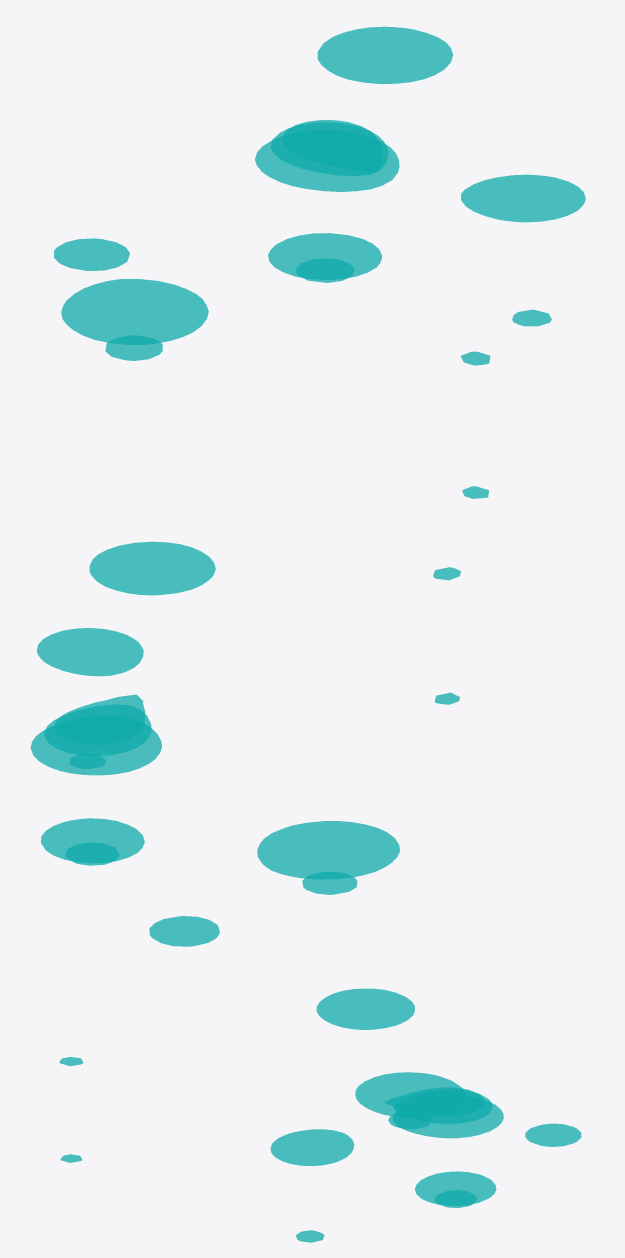
File: WaterDrops.glb
The picture shows the model from 3 angles, top to bottom: view 1: azimuth 30°, elevation 25°; view 2: azimuth 150°, elevation 25°; view 3: azimuth 270°, elevation 25°; orthographic projection. The views are drawn at different scales.
Parts seen in each view (by area): view 1: mesh_mm36, mesh_mm144, mesh_mm113, mesh_mm107, mesh_mm15, mesh_mm100, mesh_mm120, mesh_mm7, mesh_mm4, mesh_mm2; view 2: mesh_mm36, mesh_mm144, mesh_mm113, mesh_mm100, mesh_mm107, mesh_mm15, mesh_mm120, mesh_mm7, mesh_mm4, mesh_mm2; view 3: mesh_mm144, mesh_mm113, mesh_mm36, mesh_mm100, mesh_mm107, mesh_mm15, mesh_mm120, mesh_mm7, mesh_mm2.
Part boxes in pixels (x1,y1,x2,y2): mesh_mm36: (61, 279, 208, 344); mesh_mm144: (317, 26, 452, 83); mesh_mm113: (271, 123, 388, 176); mesh_mm107: (461, 174, 585, 222); mesh_mm15: (268, 233, 381, 279); mesh_mm100: (255, 136, 399, 191); mesh_mm120: (281, 120, 381, 172); mesh_mm7: (54, 238, 129, 270); mesh_mm4: (105, 336, 162, 360); mesh_mm2: (296, 259, 353, 282); mesh_mm36: (257, 821, 399, 879); mesh_mm144: (89, 541, 215, 595); mesh_mm113: (44, 705, 151, 755); mesh_mm100: (30, 724, 161, 775); mesh_mm107: (36, 628, 143, 676); mesh_mm15: (41, 818, 144, 863); mesh_mm120: (54, 694, 145, 744); mesh_mm7: (149, 916, 219, 946); mesh_mm4: (302, 872, 357, 894); mesh_mm2: (66, 843, 118, 865); mesh_mm144: (316, 988, 414, 1029); mesh_mm113: (393, 1090, 492, 1123); mesh_mm36: (355, 1072, 462, 1117); mesh_mm100: (392, 1100, 503, 1138); mesh_mm107: (270, 1129, 354, 1165); mesh_mm15: (414, 1171, 496, 1205); mesh_mm120: (384, 1087, 484, 1115); mesh_mm7: (525, 1123, 581, 1146); mesh_mm2: (435, 1190, 476, 1208).
Size of the model in its own units: 25.5 by 12.08 by 31.18.
